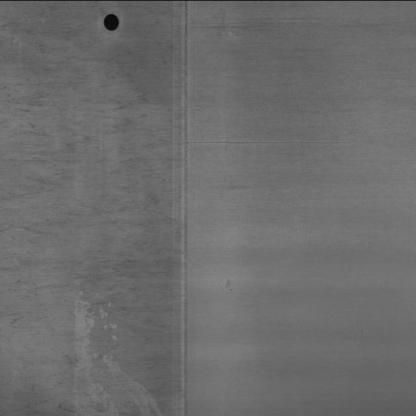punching_hole: (99, 10, 132, 35)
silk_spot: (15, 65, 160, 411)
welding_line: (172, 0, 200, 414)
